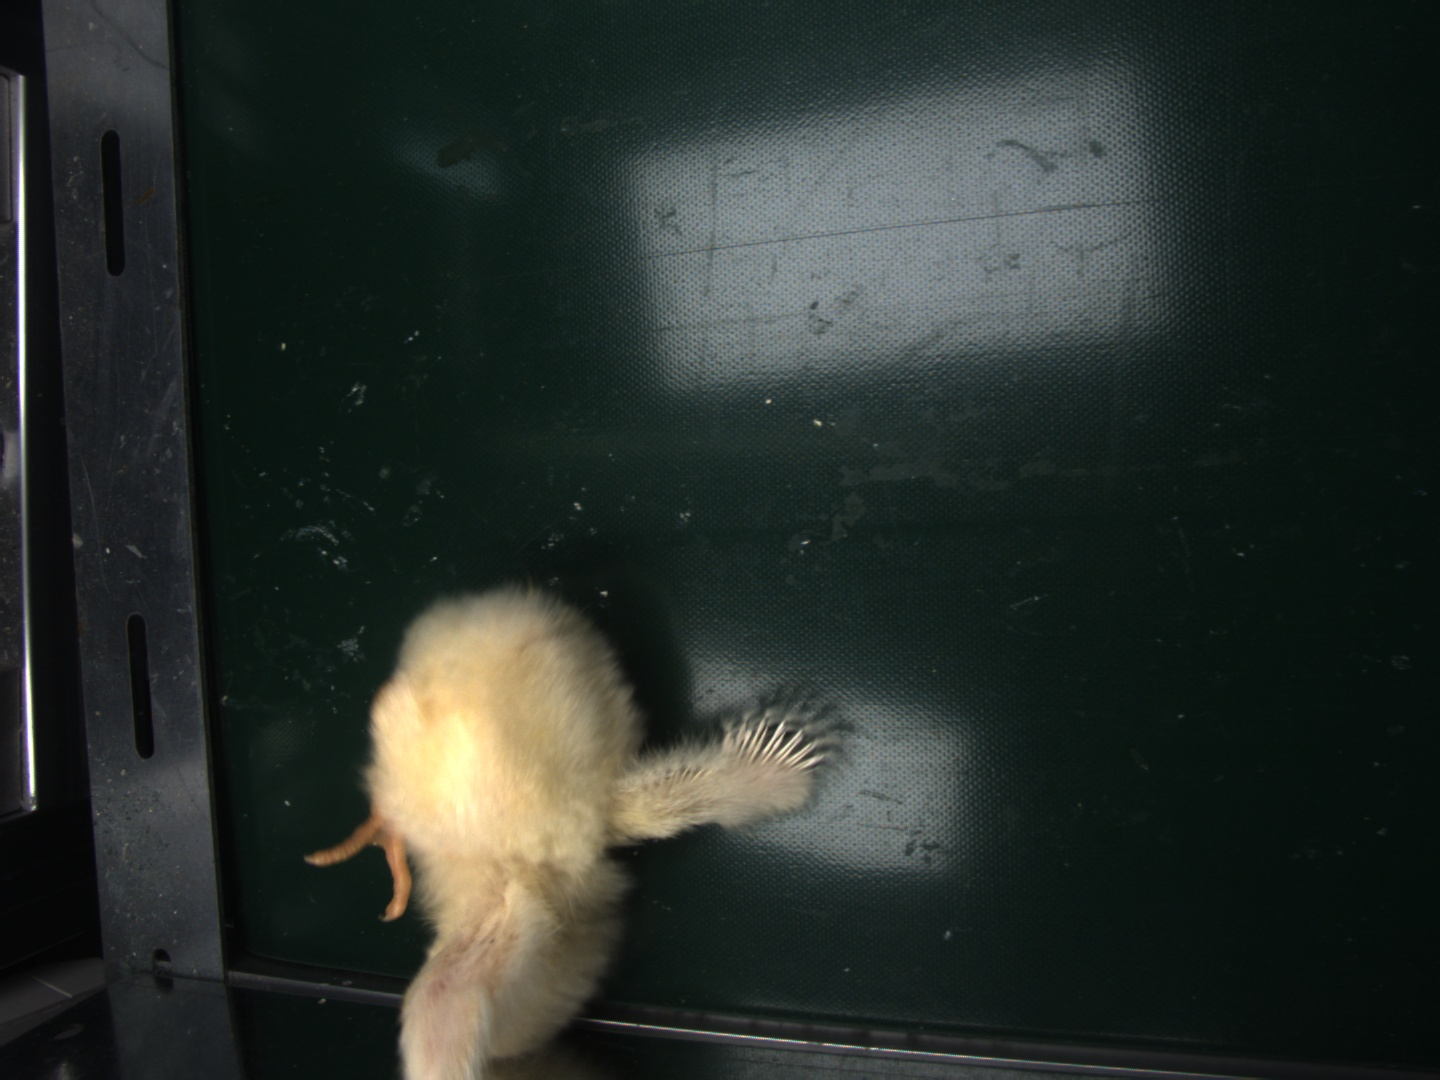male: (731, 715, 822, 775)
